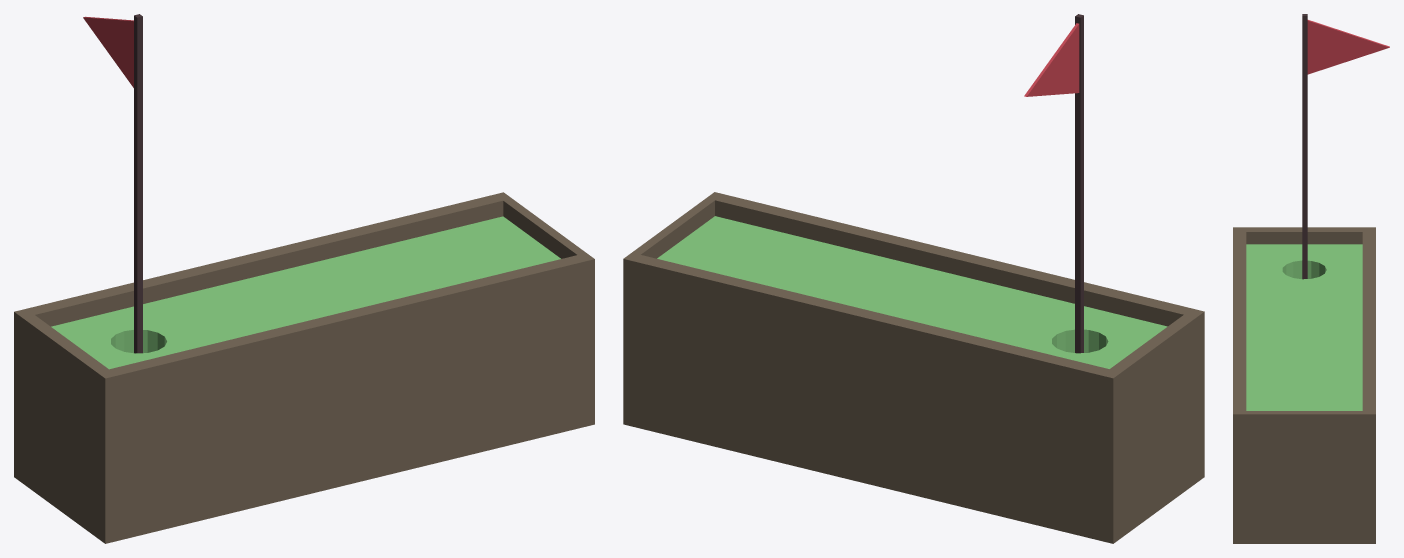
The model's file is Golf.gltf.
3 views of the same model, side by side, from view 1: azimuth 30°, elevation 25°; view 2: azimuth 150°, elevation 25°; view 3: azimuth 270°, elevation 25° (orthographic). The views are drawn at different scales.
Parts seen in each view (by area): view 1: Cube.002, Cube.001, Cube, Cylinder; view 2: Cube.002, Cube.001, Cube, Cylinder; view 3: Cube.002, Cube.001, Cylinder, Cube.
Boxes of the visible parts, bbox=[...] form: Cube.002: bbox=[14, 192, 594, 543]; Cube.001: bbox=[51, 216, 560, 369]; Cube: bbox=[134, 14, 142, 353]; Cylinder: bbox=[83, 16, 133, 87]; Cube.002: bbox=[623, 192, 1204, 543]; Cube.001: bbox=[657, 216, 1167, 368]; Cube: bbox=[1075, 14, 1083, 353]; Cylinder: bbox=[1024, 23, 1079, 96]; Cube.002: bbox=[1233, 227, 1375, 543]; Cube.001: bbox=[1246, 244, 1362, 410]; Cylinder: bbox=[1307, 20, 1389, 74]; Cube: bbox=[1302, 14, 1307, 279].
Bounding box in the file's own units: 8.76 × 8.13 × 3.11.
4 materials, 4 textured.
